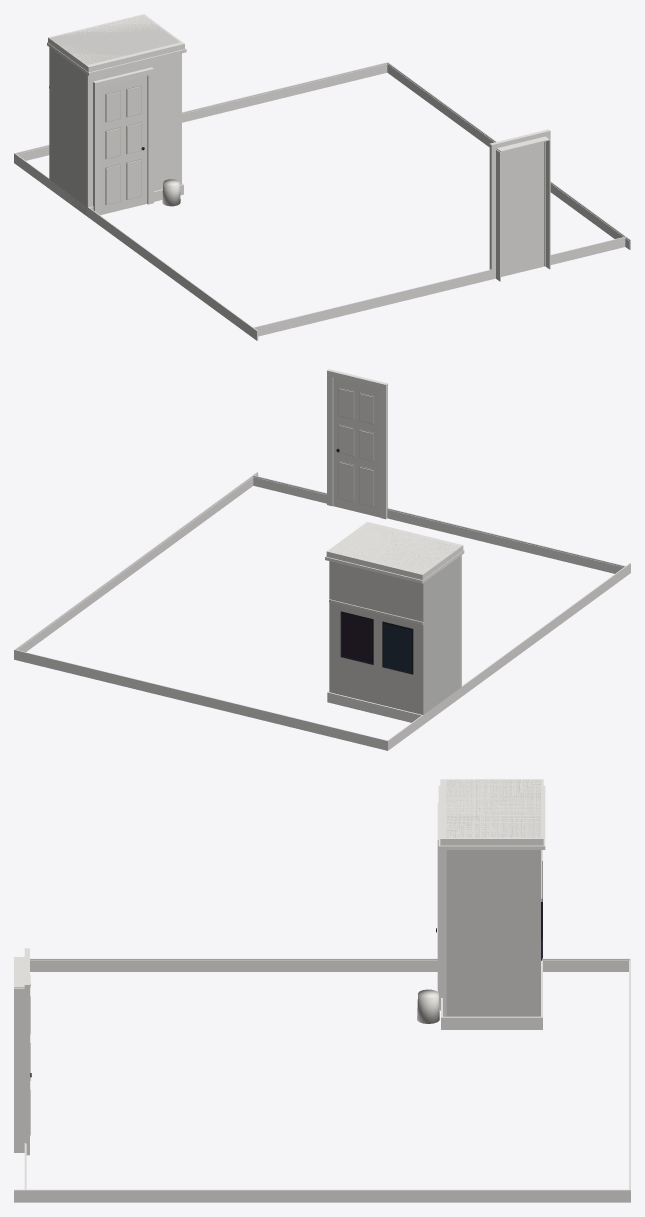
The model's file is Arcade_Baseboards.glb.
3 renders of one model, top to bottom at view 1: azimuth 30°, elevation 25°; view 2: azimuth 150°, elevation 25°; view 3: azimuth 270°, elevation 25°, orthographic. The views are drawn at different scales.
Parts seen in each view (by area): view 1: root; view 2: root; view 3: root.
Part boxes in pixels (x1,y1,x2,y2): root: [14, 14, 630, 340]; root: [14, 369, 630, 750]; root: [14, 779, 630, 1202].
Bounding box in the file's own units: 6.32 × 2.43 × 7.1.
